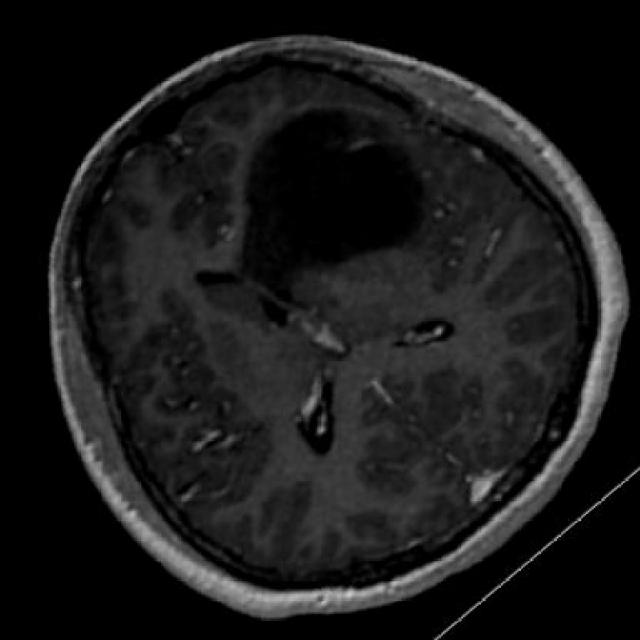Brain-Tumor: (221, 92, 456, 286)
